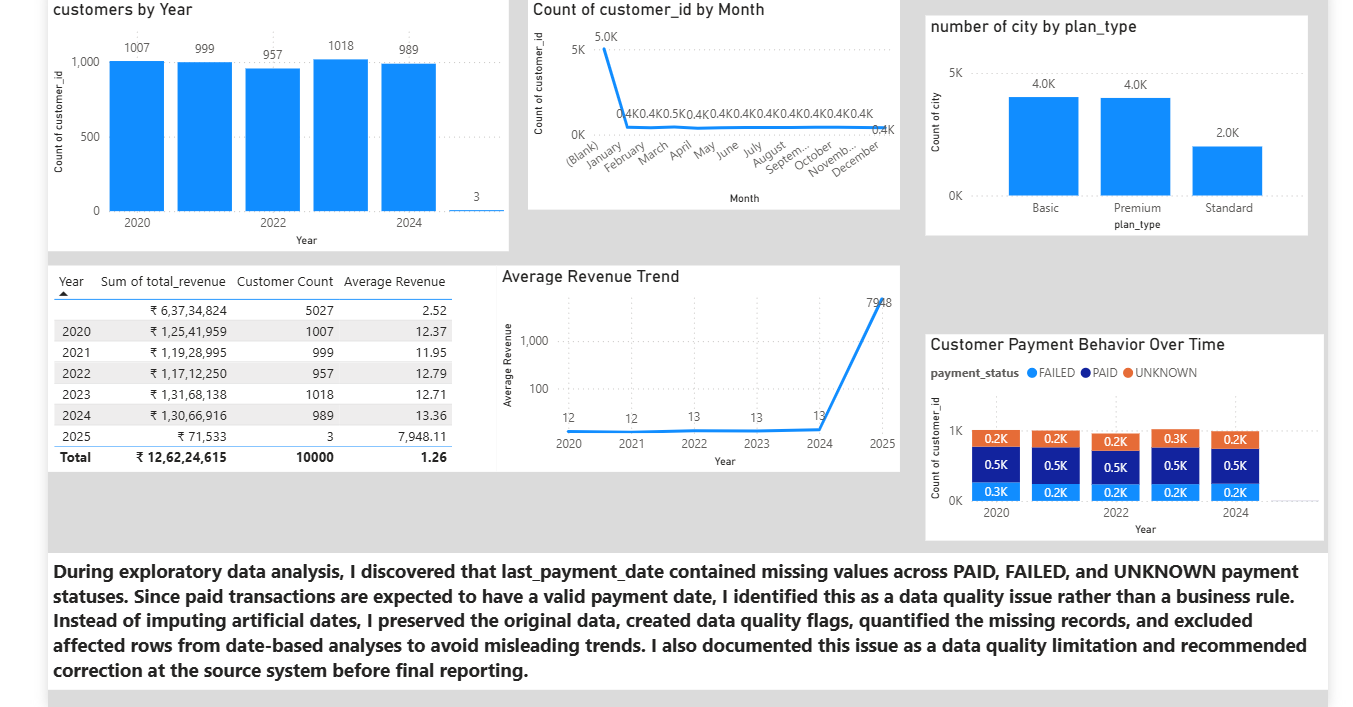

Layout of this report page (visuals, bound fields, positions):
{"tool":"powerbi","page":{"name":"Page 4","canvas":[1280,720],"ordinal":3},"visuals":[{"type":"clusteredColumnChart","fields":{"Category":["silver telecom_clean_data.last_payment_date.Variation.Date Hierarchy.Year"],"Y":["CountNonNull(silver telecom_clean_data.customer_id)"]},"box":[0,11,461,251.9],"z":0},{"type":"lineChart","title":"Average Revenue Trend","fields":{"Category":["silver telecom_clean_data.last_payment_date.Variation.Date Hierarchy.Year"],"Y":["silver telecom_clean_data.Average Revenue"]},"box":[448.8,277.6,403.5,206.7],"z":3},{"type":"columnChart","title":"Customer Payment Behavior Over Time","fields":{"Category":["silver telecom_clean_data.last_payment_date.Variation.Date Hierarchy.Year"],"Series":["silver telecom_clean_data.payment_status"],"Y":["CountNonNull(silver telecom_clean_data.customer_id)"]},"box":[878,346.1,398.6,206.7],"z":4},{"type":"lineChart","fields":{"Category":["silver telecom_clean_data.last_payment_date.Variation.Date Hierarchy.Month"],"Y":["CountNonNull(silver telecom_clean_data.customer_id)"]},"box":[480.6,11,371.7,210.3],"z":5},{"type":"barChart","fields":{"Series":["silver telecom_clean_data.Payment_Date_Status"],"Y":["CountNonNull(silver telecom_clean_data.customer_id)"]},"box":[886.6,0,373,111.3],"z":6},{"type":"textbox","box":[0,564.9,1280.3,137],"z":7},{"type":"columnChart","fields":{"Category":["silver telecom_clean_data.plan_type"],"Y":["CountNonNull(silver telecom_clean_data.city)"]},"box":[878,111.3,381.5,220.1],"z":8},{"type":"tableEx","fields":{"Values":["silver telecom_clean_data.last_payment_date.Variation.Date Hierarchy.Year","Sum(silver telecom_clean_data.total_revenue)","silver telecom_clean_data.Customer Count","silver telecom_clean_data.Average Revenue"]},"box":[0,277.6,448.8,206.7],"z":9}]}

Visuals, with their boxes on the page's 1280x720 design canvas (x1, y1, x2, y2). These are canvas units, not pixel positions in the 1353x707 screenshot, which may show the page scaled, cropped or inside an application window:
clusteredColumnChart - silver telecom_clean_data.last_payment_date.Variation.Date Hierarchy.Year x CountNonNull(silver telecom_clean_data.customer_id): [0, 11, 461, 263]
"Average Revenue Trend" lineChart: [449, 278, 852, 484]
"Customer Payment Behavior Over Time" columnChart: [878, 346, 1277, 553]
lineChart - silver telecom_clean_data.last_payment_date.Variation.Date Hierarchy.Month x CountNonNull(silver telecom_clean_data.customer_id): [481, 11, 852, 221]
barChart - silver telecom_clean_data.Payment_Date_Status x CountNonNull(silver telecom_clean_data.customer_id): [887, 0, 1260, 111]
textbox: [0, 565, 1280, 702]
columnChart - silver telecom_clean_data.plan_type x CountNonNull(silver telecom_clean_data.city): [878, 111, 1260, 331]
tableEx - silver telecom_clean_data.last_payment_date.Variation.Date Hierarchy.Year x Sum(silver telecom_clean_data.total_revenue): [0, 278, 449, 484]
